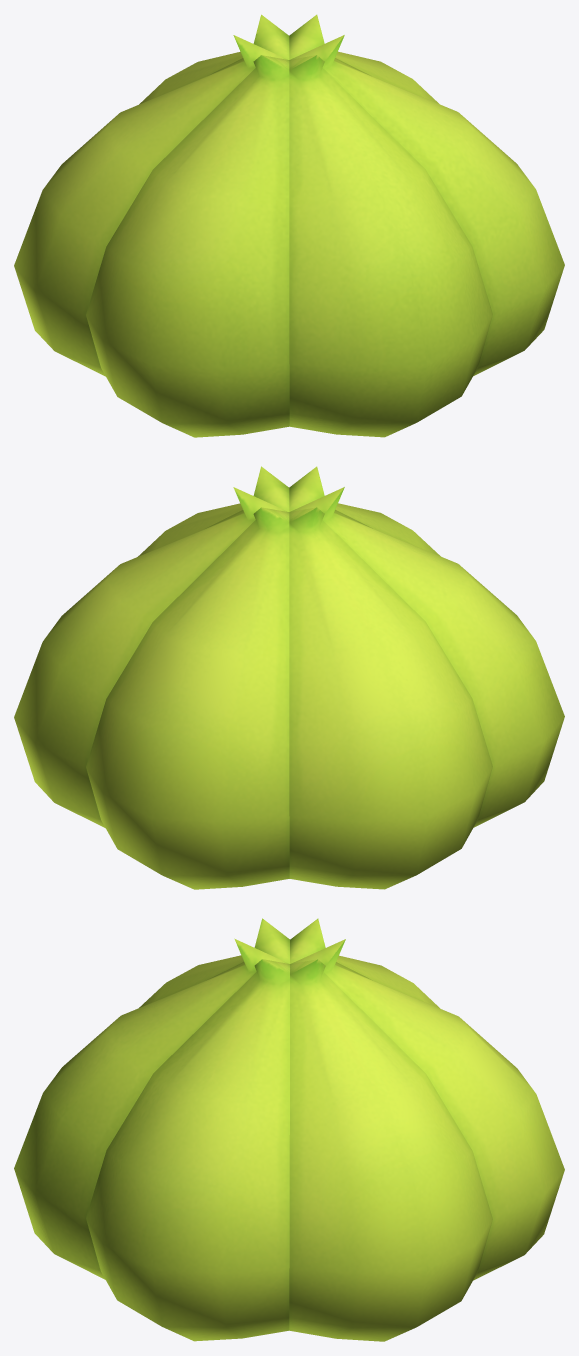
Rendered from importerSkin17_garlic.fbx.
3 renders of one model, top to bottom at view 1: azimuth 30°, elevation 25°; view 2: azimuth 150°, elevation 25°; view 3: azimuth 270°, elevation 25°, orthographic.
Visible parts, largest first — view 1: importerSkin17_garlic_geo; view 2: importerSkin17_garlic_geo; view 3: importerSkin17_garlic_geo.
Boxes of the visible parts, x1,y1,x2,y2 form: importerSkin17_garlic_geo: (14, 14, 564, 437); importerSkin17_garlic_geo: (14, 466, 564, 889); importerSkin17_garlic_geo: (14, 918, 564, 1341).
Bounding box in the file's own units: 1.42 × 1.08 × 1.54.
Materials: 1 (1 with a texture image).
